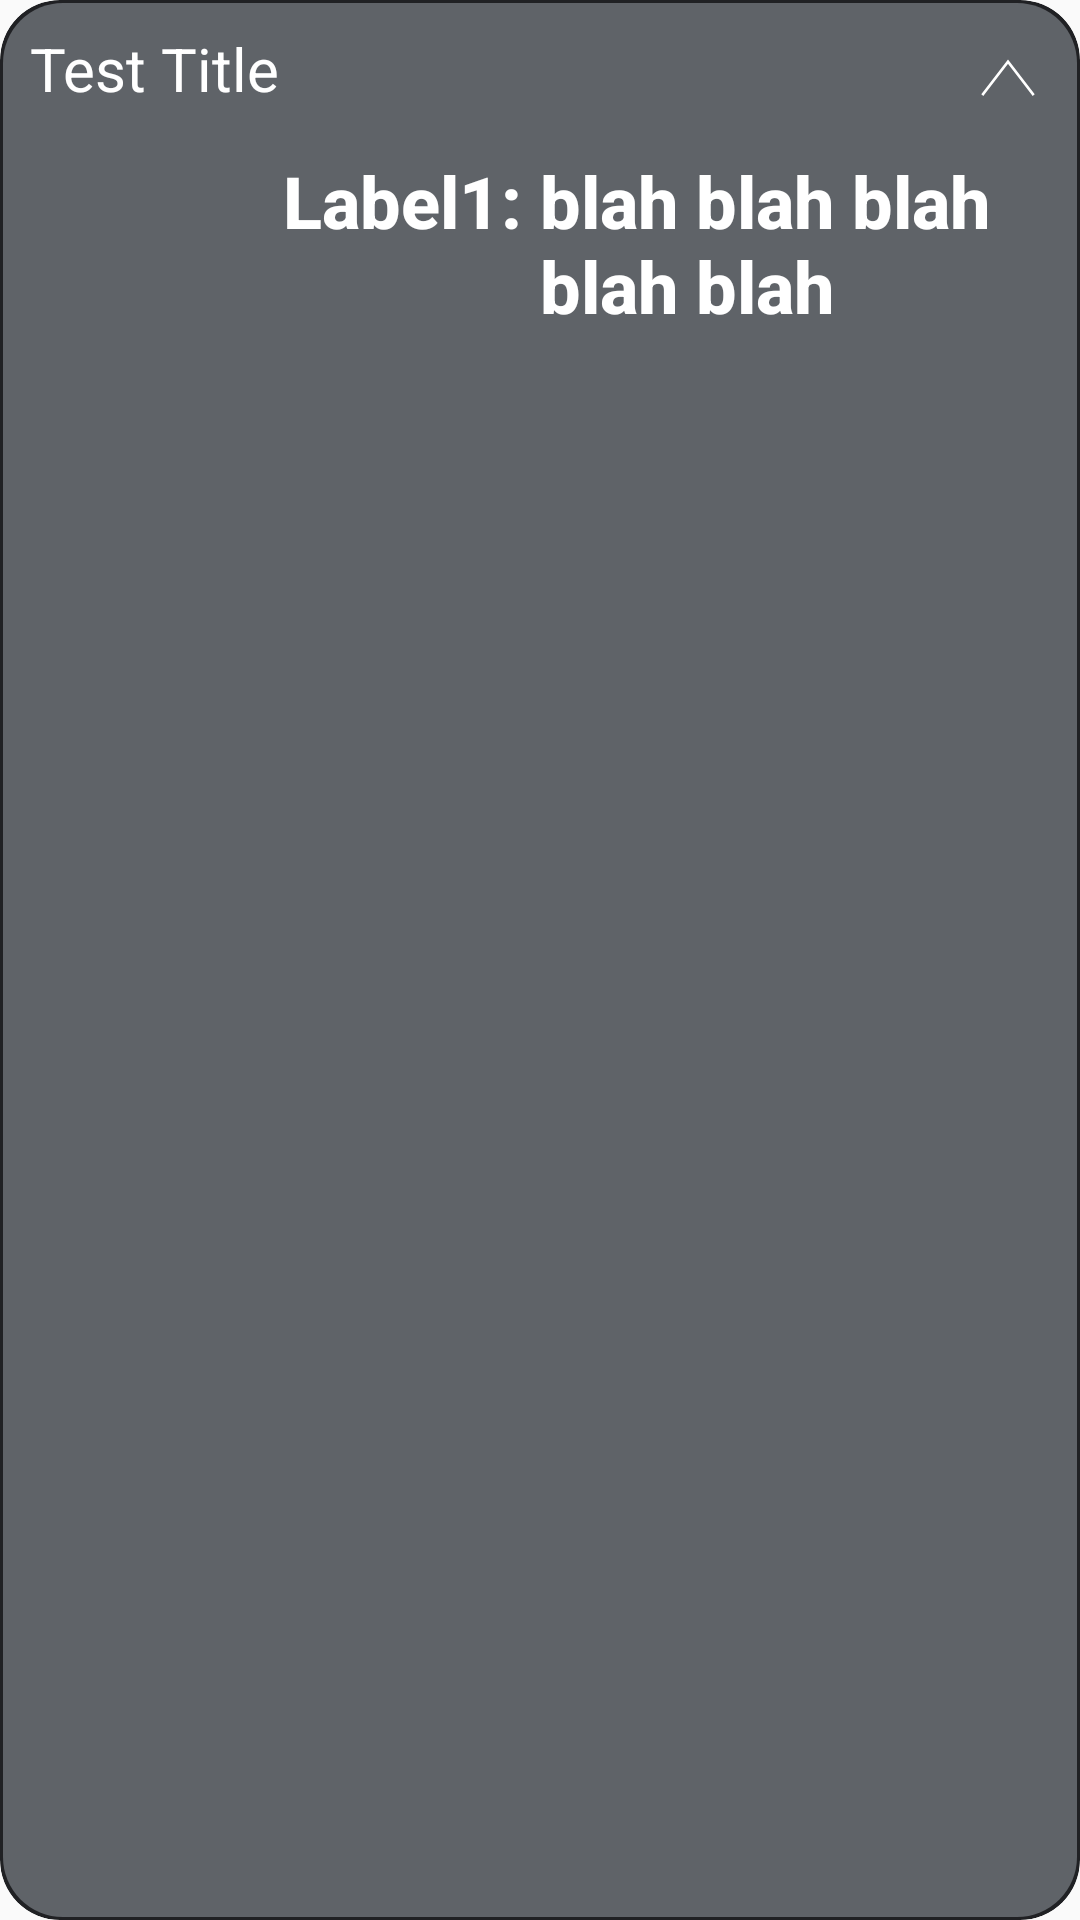

Icons on this 1080×1920 Android screen, each with its box as (x1, y1, x2, y2):
scroll up: (936, 0, 1080, 144)
